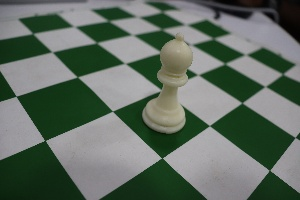white_bishop: (134, 24, 197, 144)
